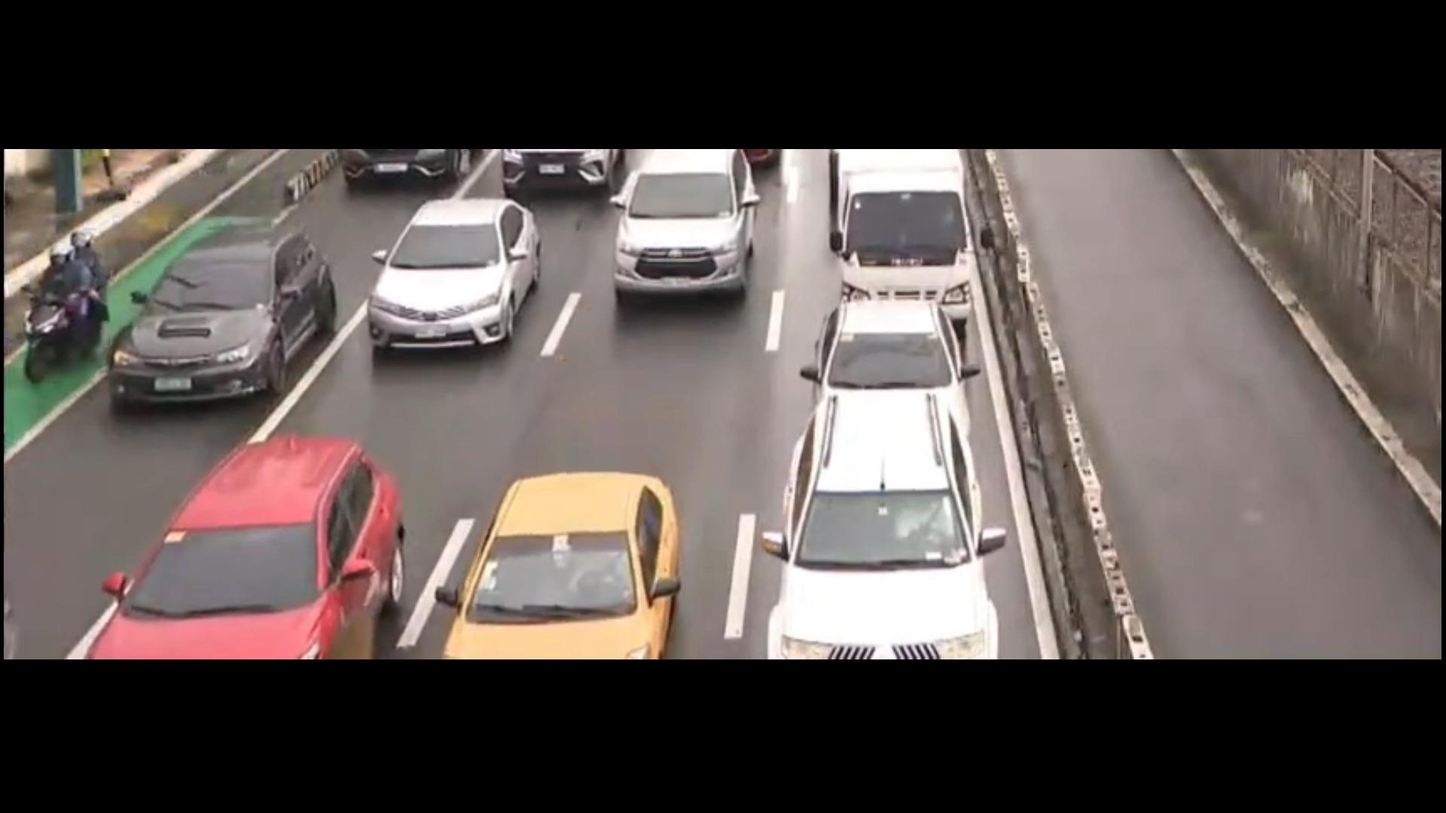Motorcycle: (6, 226, 143, 398)
SUV: (76, 428, 464, 660), (747, 373, 1038, 664), (99, 217, 356, 417), (590, 145, 784, 321)
Sedan: (436, 461, 720, 657), (813, 275, 991, 411)
